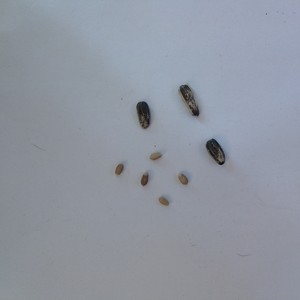girasol: (175, 83, 203, 119), (203, 138, 228, 168), (134, 98, 153, 131)
trigo: (173, 171, 189, 187), (113, 161, 125, 177), (135, 171, 147, 187), (158, 194, 170, 209), (148, 150, 162, 162)
